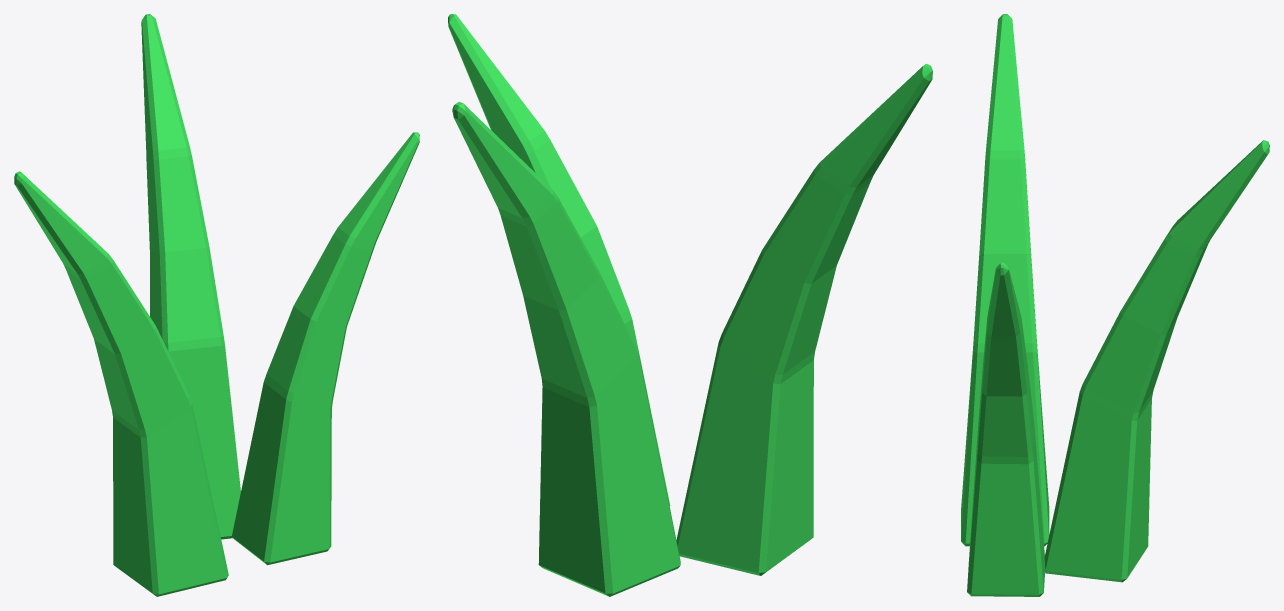
The model's file is grass.fbx.
3 views of the same model, side by side, from view 1: azimuth 30°, elevation 25°; view 2: azimuth 150°, elevation 25°; view 3: azimuth 270°, elevation 25° (orthographic). The views are drawn at different scales.
Visible parts, largest first — view 1: Grass; view 2: Grass; view 3: Grass.
Part boxes in pixels (bbox=[...]): Grass: bbox=[14, 14, 419, 596]; Grass: bbox=[448, 14, 932, 596]; Grass: bbox=[961, 14, 1269, 596].
Size of the model in its own units: 249 by 165 by 259.
